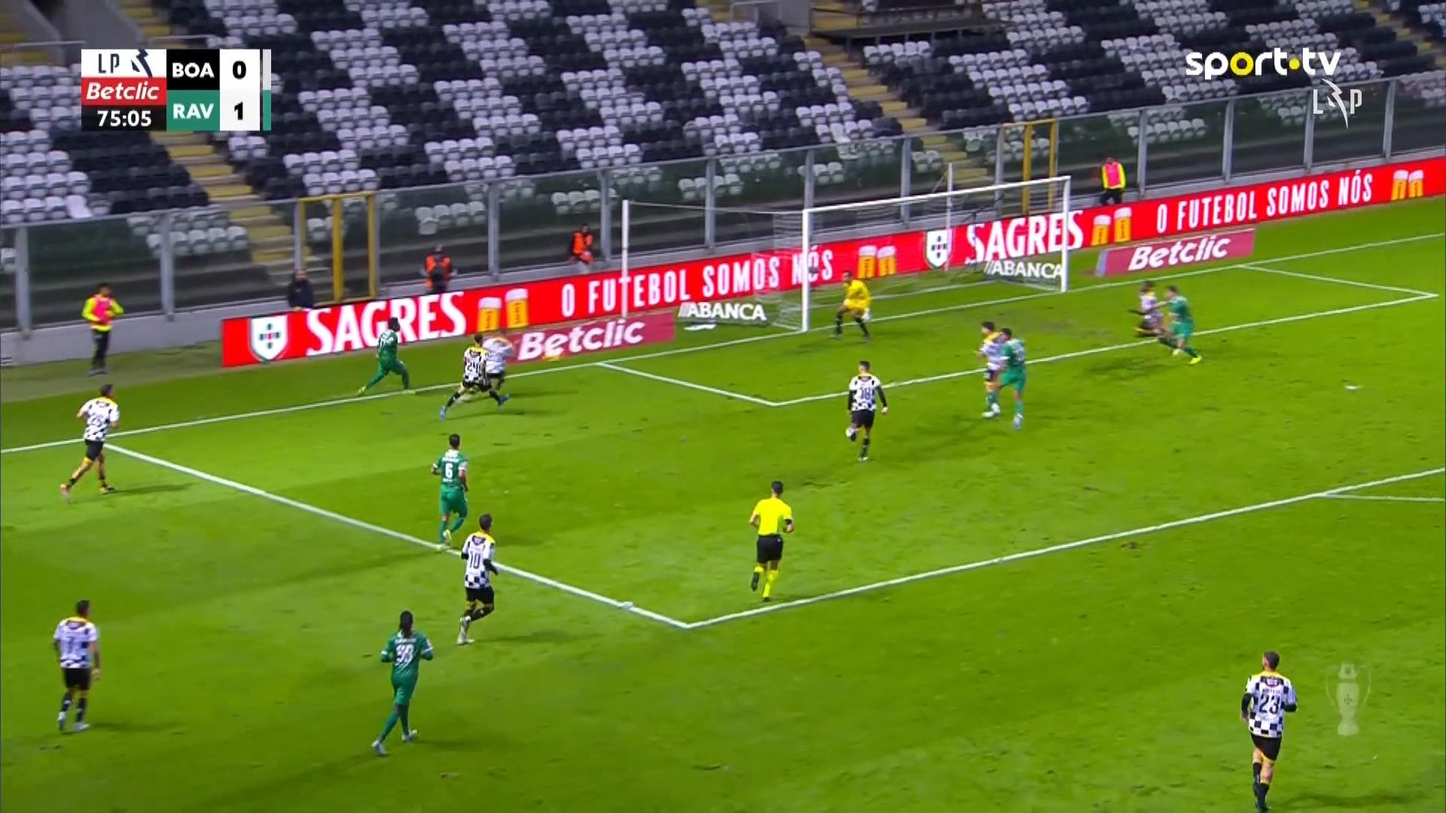ball: (541, 348, 562, 361)
goalkeeper: (830, 269, 871, 340)
player: (1239, 650, 1298, 811), (371, 609, 434, 756), (59, 382, 121, 498), (51, 598, 101, 732), (439, 332, 511, 418), (456, 513, 499, 644), (430, 433, 470, 551), (356, 316, 415, 395), (844, 359, 889, 461), (987, 326, 1027, 430), (1159, 283, 1202, 364), (1130, 279, 1179, 348), (471, 331, 515, 404), (975, 319, 1007, 418)
referee: (748, 480, 795, 601)
